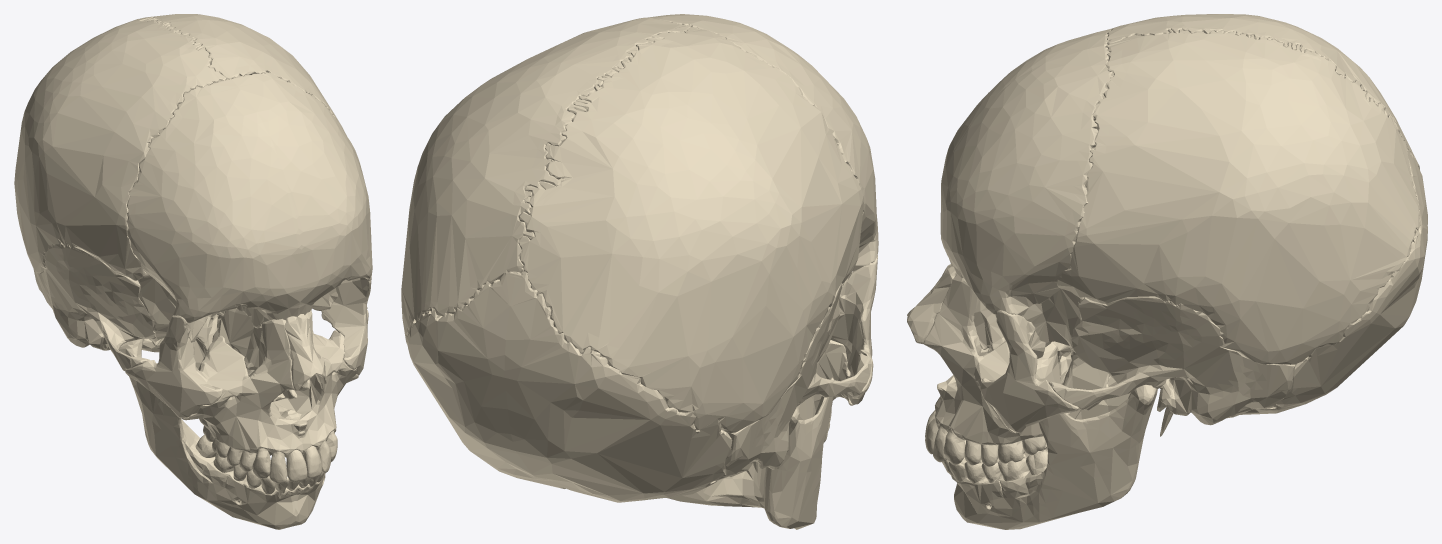
The model's file is skull.glb.
3 views of the same model, side by side, from view 1: azimuth 30°, elevation 25°; view 2: azimuth 150°, elevation 25°; view 3: azimuth 270°, elevation 25° (orthographic). The views are drawn at different scales.
Visible parts, largest first — view 1: Frontal bone, Parietal bone.r, Maxilla.r, Temporal bone.r, Mandible, Parietal bone.l, Zygomatic bone.r, Maxilla.l, Sphenoid bone, Zygomatic bone.l, Nasal bone.r, Ethmoid bone (+6 smaller); view 2: Parietal bone.r, Occipital bone, Parietal bone.l, Frontal bone, Mandible, Temporal bone.r, Zygomatic bone.r, Maxilla.r; view 3: Parietal bone.l, Frontal bone, Temporal bone.l, Mandible, Maxilla.l, Occipital bone, Parietal bone.r, Zygomatic bone.l, Sphenoid bone, Nasal bone.l, Lacrimal bone.l.
Boxes of the visible parts, x1,y1,x2,y2 form: Frontal bone: (127, 72, 372, 328); Parietal bone.r: (14, 17, 226, 280); Maxilla.r: (182, 319, 303, 457); Temporal bone.r: (33, 242, 155, 371); Mandible: (118, 308, 325, 529); Parietal bone.l: (140, 14, 360, 166); Zygomatic bone.r: (125, 315, 222, 418); Maxilla.l: (273, 310, 358, 452); Sphenoid bone: (138, 272, 337, 369); Zygomatic bone.l: (321, 274, 371, 375); Nasal bone.r: (285, 316, 315, 390); Ethmoid bone: (218, 308, 261, 356); Parietal bone.r: (518, 27, 863, 433); Occipital bone: (407, 271, 731, 502); Parietal bone.l: (401, 17, 690, 344); Frontal bone: (648, 14, 878, 271); Mandible: (666, 377, 834, 529); Temporal bone.r: (714, 282, 871, 481); Zygomatic bone.r: (830, 255, 877, 404); Maxilla.r: (797, 340, 854, 420); Parietal bone.l: (1057, 29, 1420, 364); Frontal bone: (940, 29, 1114, 315); Temporal bone.l: (1049, 296, 1295, 436); Mandible: (951, 375, 1157, 529); Maxilla.l: (923, 274, 1060, 445); Occipital bone: (1240, 149, 1427, 414); Parietal bone.r: (1098, 14, 1419, 169); Zygomatic bone.l: (980, 310, 1079, 432); Sphenoid bone: (1022, 288, 1109, 410); Nasal bone.l: (907, 266, 956, 344); Lacrimal bone.l: (974, 300, 1005, 350).
Size of the model in its own units: 0.1487 by 0.2092 by 0.2036.
